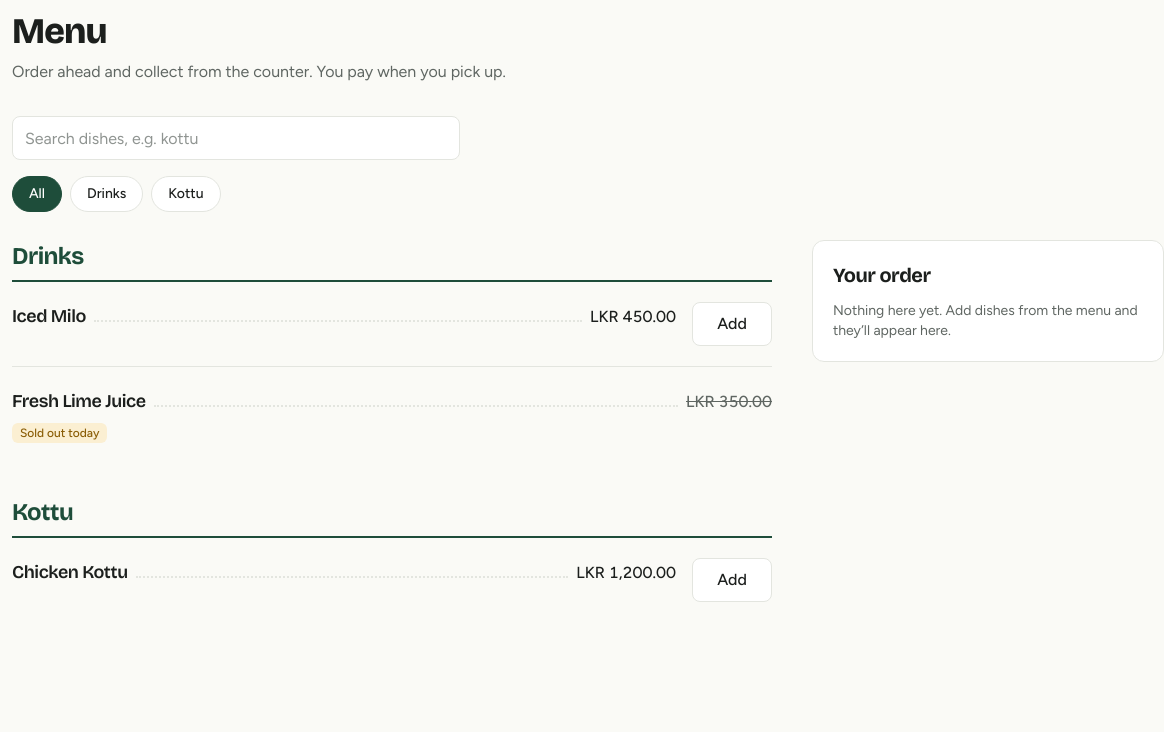
Test case: MenuPage › adds items to the order and shows the minimum-order hint
The image size is (1164, 732).
Click the button with aria-label "Add Iced Milo" at (732, 324), box 692,302 -> 772,346
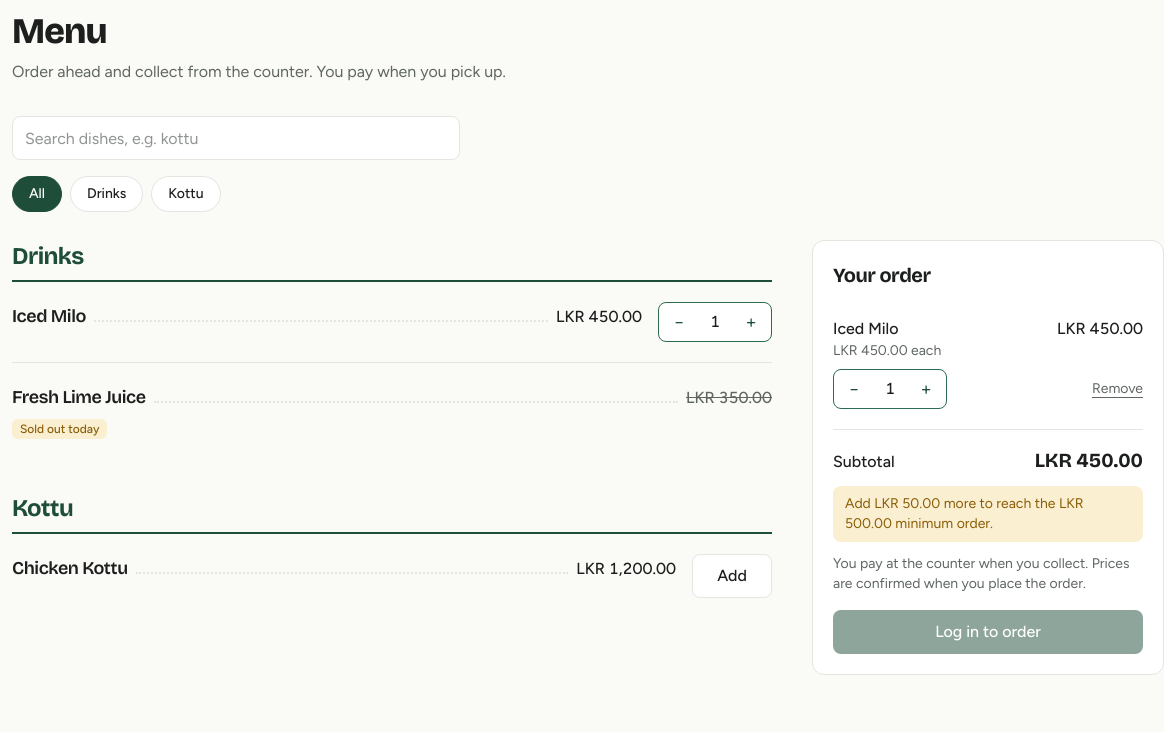
Result: the text "LKR 450.00" next to "Subtotal" is shown at 1035,448 -> 1143,472
Result: the text "Add LKR 50.00 more to reach the LKR 500.00 minimum order." is shown at 833,486 -> 1143,542
Result: the button "Log in to order" is disabled at 833,610 -> 1143,654
Click the button named "Increase Iced Milo quantity" at (926, 389), box 906,369 -> 946,409
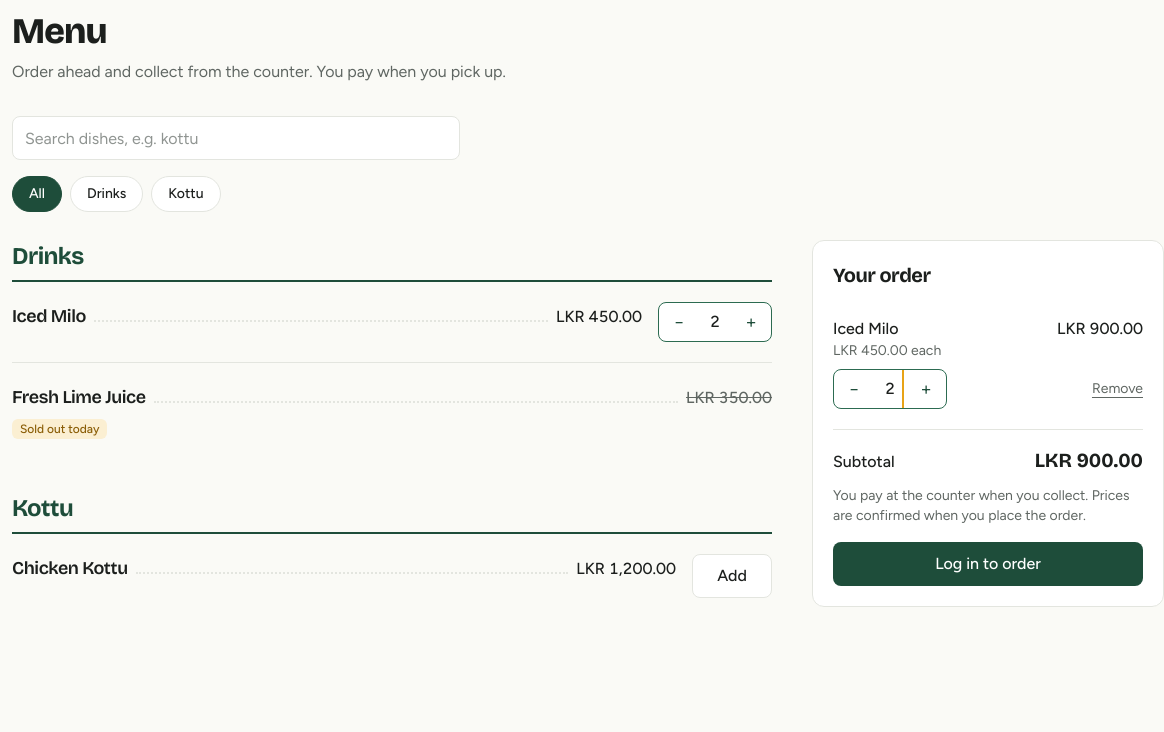
Result: the text "LKR 900.00" next to "Subtotal" is shown at 1035,448 -> 1143,472
Result: the text "more to reach" is gone
Result: the button "Log in to order" is enabled at 833,542 -> 1143,586
